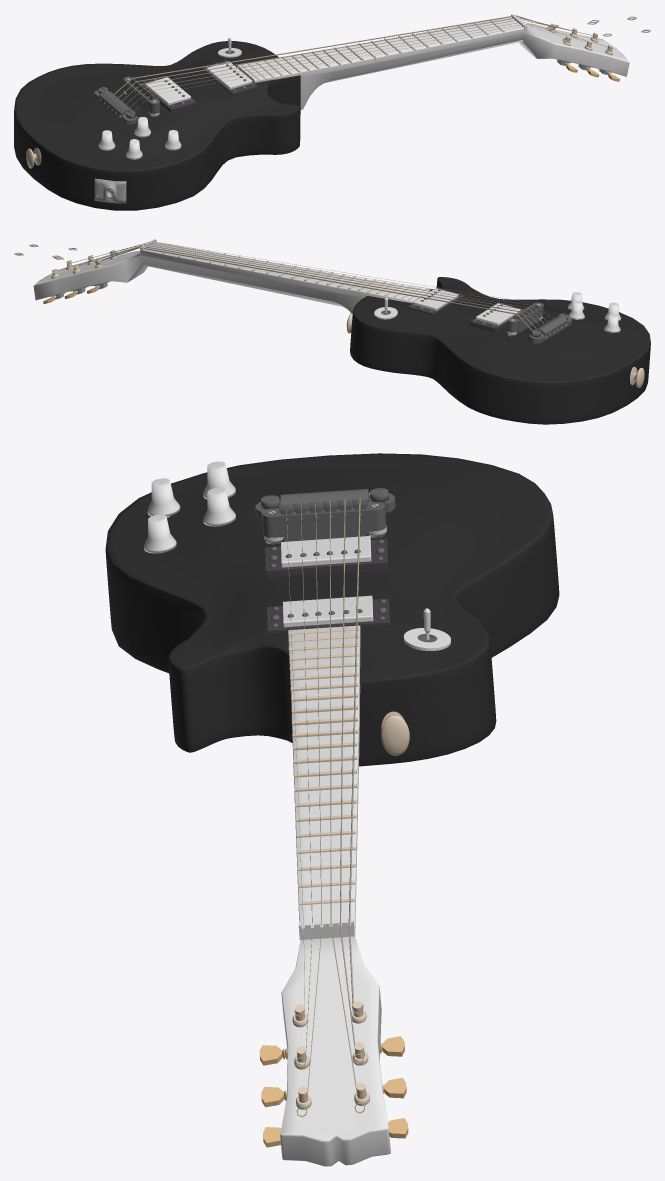
File: guitar.glb
3 views of the same model, one above another, from view 1: azimuth 30°, elevation 25°; view 2: azimuth 150°, elevation 25°; view 3: azimuth 270°, elevation 25° (orthographic). The views are drawn at different scales.
Parts seen in each view (by area): view 1: Body, Handle, String6, Handle lines, plug, boxprt, boxprt.001, Bridge, Saddle, Pickup1, Pickup1.001; view 2: Body, Handle, String6, Handle lines, Saddle, Bridge, boxprt.001, boxprt, Pickup1, Switch; view 3: Body, Handle, Handle lines, String6, Saddle, boxprt, boxprt.001, Pickup1, Bridge, Pickup1.001, Switch, Hang2.
Part boxes in pixels (bbox=[...]): Body: bbox=[14, 41, 300, 210]; Handle: bbox=[237, 17, 629, 109]; String6: bbox=[114, 15, 607, 110]; Handle lines: bbox=[241, 20, 504, 79]; plug: bbox=[94, 178, 126, 203]; boxprt: bbox=[145, 77, 190, 105]; boxprt.001: bbox=[207, 61, 252, 89]; Bridge: bbox=[94, 90, 137, 124]; Saddle: bbox=[123, 76, 159, 113]; Pickup1: bbox=[139, 76, 196, 112]; Pickup1.001: bbox=[201, 60, 257, 95]; Body: bbox=[350, 277, 650, 424]; Handle: bbox=[33, 242, 430, 313]; String6: bbox=[57, 241, 550, 330]; Handle lines: bbox=[162, 245, 426, 299]; Saddle: bbox=[507, 302, 543, 333]; Bridge: bbox=[528, 316, 572, 343]; boxprt.001: bbox=[413, 288, 458, 310]; boxprt: bbox=[476, 303, 520, 325]; Pickup1: bbox=[470, 303, 522, 332]; Switch: bbox=[374, 298, 397, 319]; Body: bbox=[105, 453, 559, 766]; Handle: bbox=[280, 625, 390, 1166]; Handle lines: bbox=[288, 627, 358, 905]; String6: bbox=[286, 498, 360, 1093]; Saddle: bbox=[262, 502, 386, 541]; boxprt: bbox=[281, 536, 371, 567]; boxprt.001: bbox=[282, 595, 373, 627]; Pickup1: bbox=[265, 538, 388, 578]; Bridge: bbox=[255, 489, 395, 520]; Pickup1.001: bbox=[267, 598, 389, 633]; Switch: bbox=[403, 608, 450, 650]; Hang2: bbox=[381, 711, 409, 755].
Bounding box in the file's own units: 17.17 × 2.69 × 5.46.
